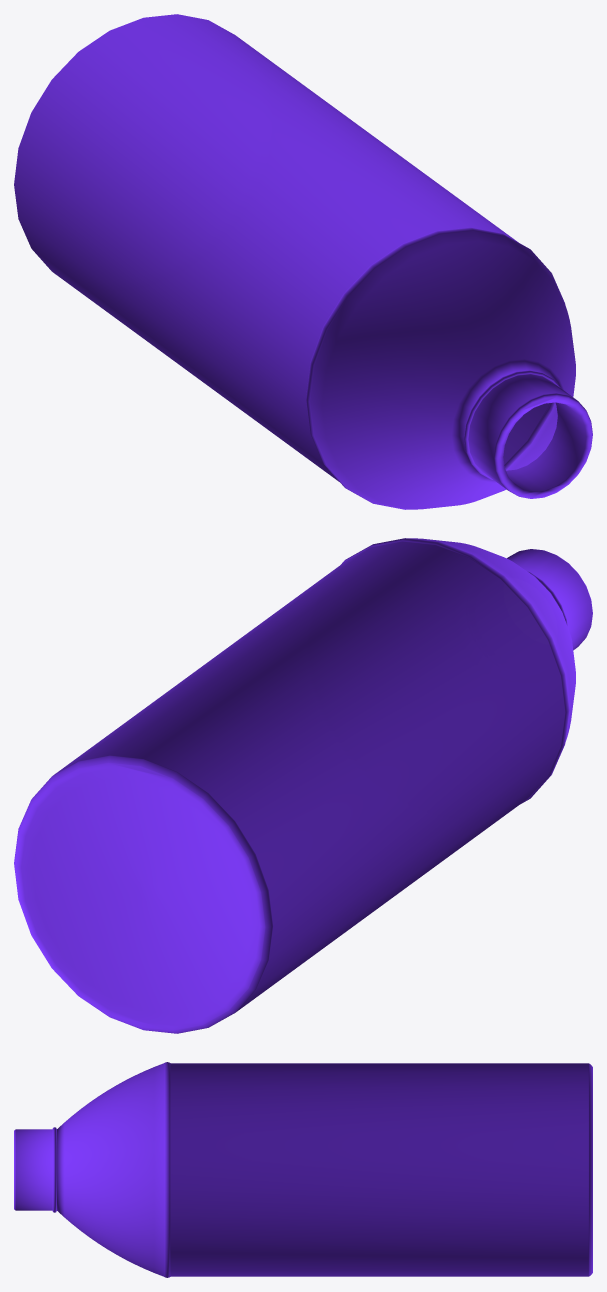
Rendered from model_align.obj.
3 views of the same model, one above another, from view 1: azimuth 30°, elevation 25°; view 2: azimuth 150°, elevation 25°; view 3: azimuth 270°, elevation 25° (orthographic). The views are drawn at different scales.
Visible parts, largest first — view 1: mesh1_mesh1-geometry; view 2: mesh1_mesh1-geometry; view 3: mesh1_mesh1-geometry.
Part boxes in pixels (x1,y1,x2,y2): mesh1_mesh1-geometry: (14,14,592,509); mesh1_mesh1-geometry: (14,538,592,1033); mesh1_mesh1-geometry: (14,1062,592,1277).
Bounding box in the file's own units: 0.0655 × 0.0655 × 0.175.
